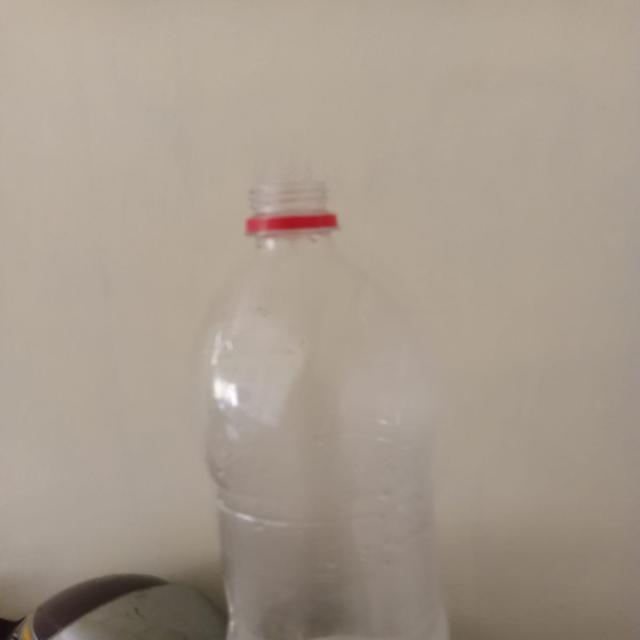bottle: (181, 158, 462, 640)
